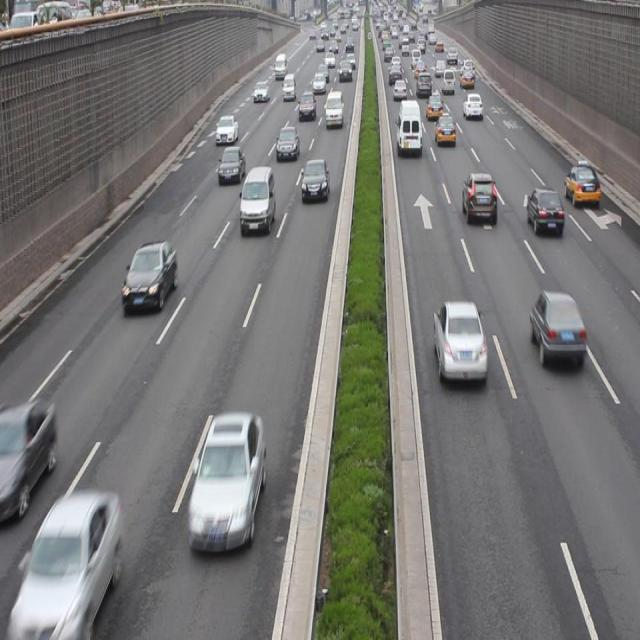car: (24, 498, 121, 629), (187, 413, 266, 555), (1, 402, 56, 504), (527, 287, 586, 371), (432, 301, 487, 390), (122, 244, 180, 311), (240, 166, 276, 242), (459, 173, 497, 226), (564, 160, 600, 210), (525, 190, 562, 234), (300, 159, 329, 205), (218, 146, 246, 189), (216, 112, 239, 148), (276, 125, 297, 164), (435, 111, 455, 150)
truck: (395, 99, 422, 157)
